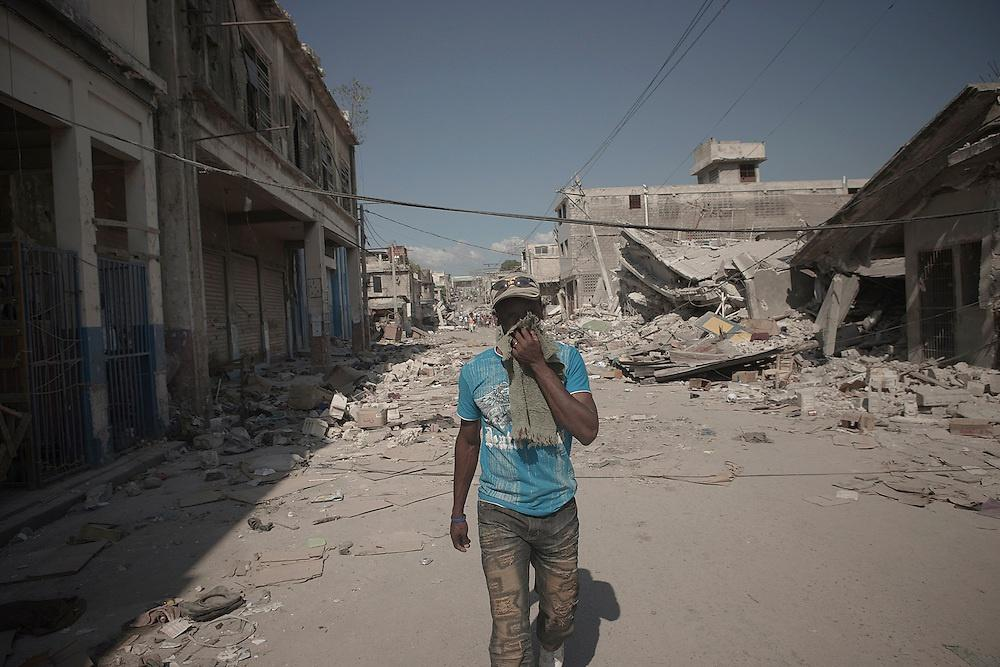victim: (446, 268, 602, 667)
